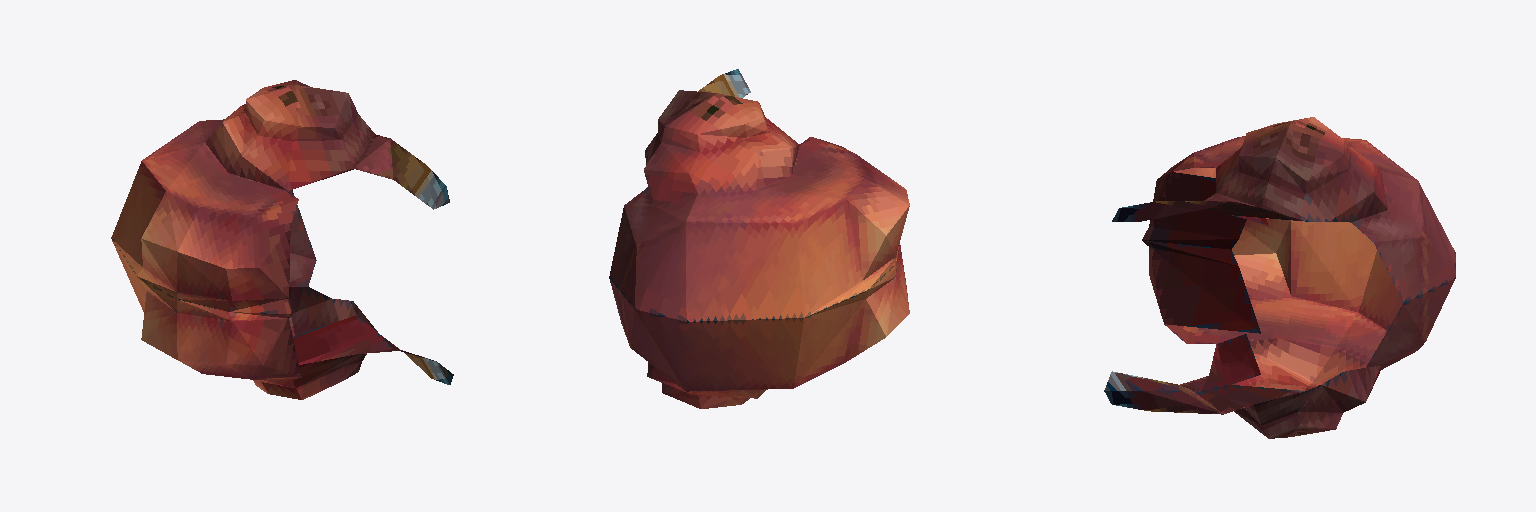
3 renders of one model, left to right at view 1: azimuth 30°, elevation 25°; view 2: azimuth 150°, elevation 25°; view 3: azimuth 270°, elevation 25°, orthographic.
Visible parts, largest first — view 1: Node 0; view 2: Node 0; view 3: Node 0.
Boxes of the visible parts, box(x1,y1,x2,y2) form: Node 0: box(111, 80, 453, 399); Node 0: box(609, 69, 909, 408); Node 0: box(1104, 117, 1455, 438).
Size of the model in its own units: 0.36 by 0.46 by 0.47.
1 materials, 1 textured.